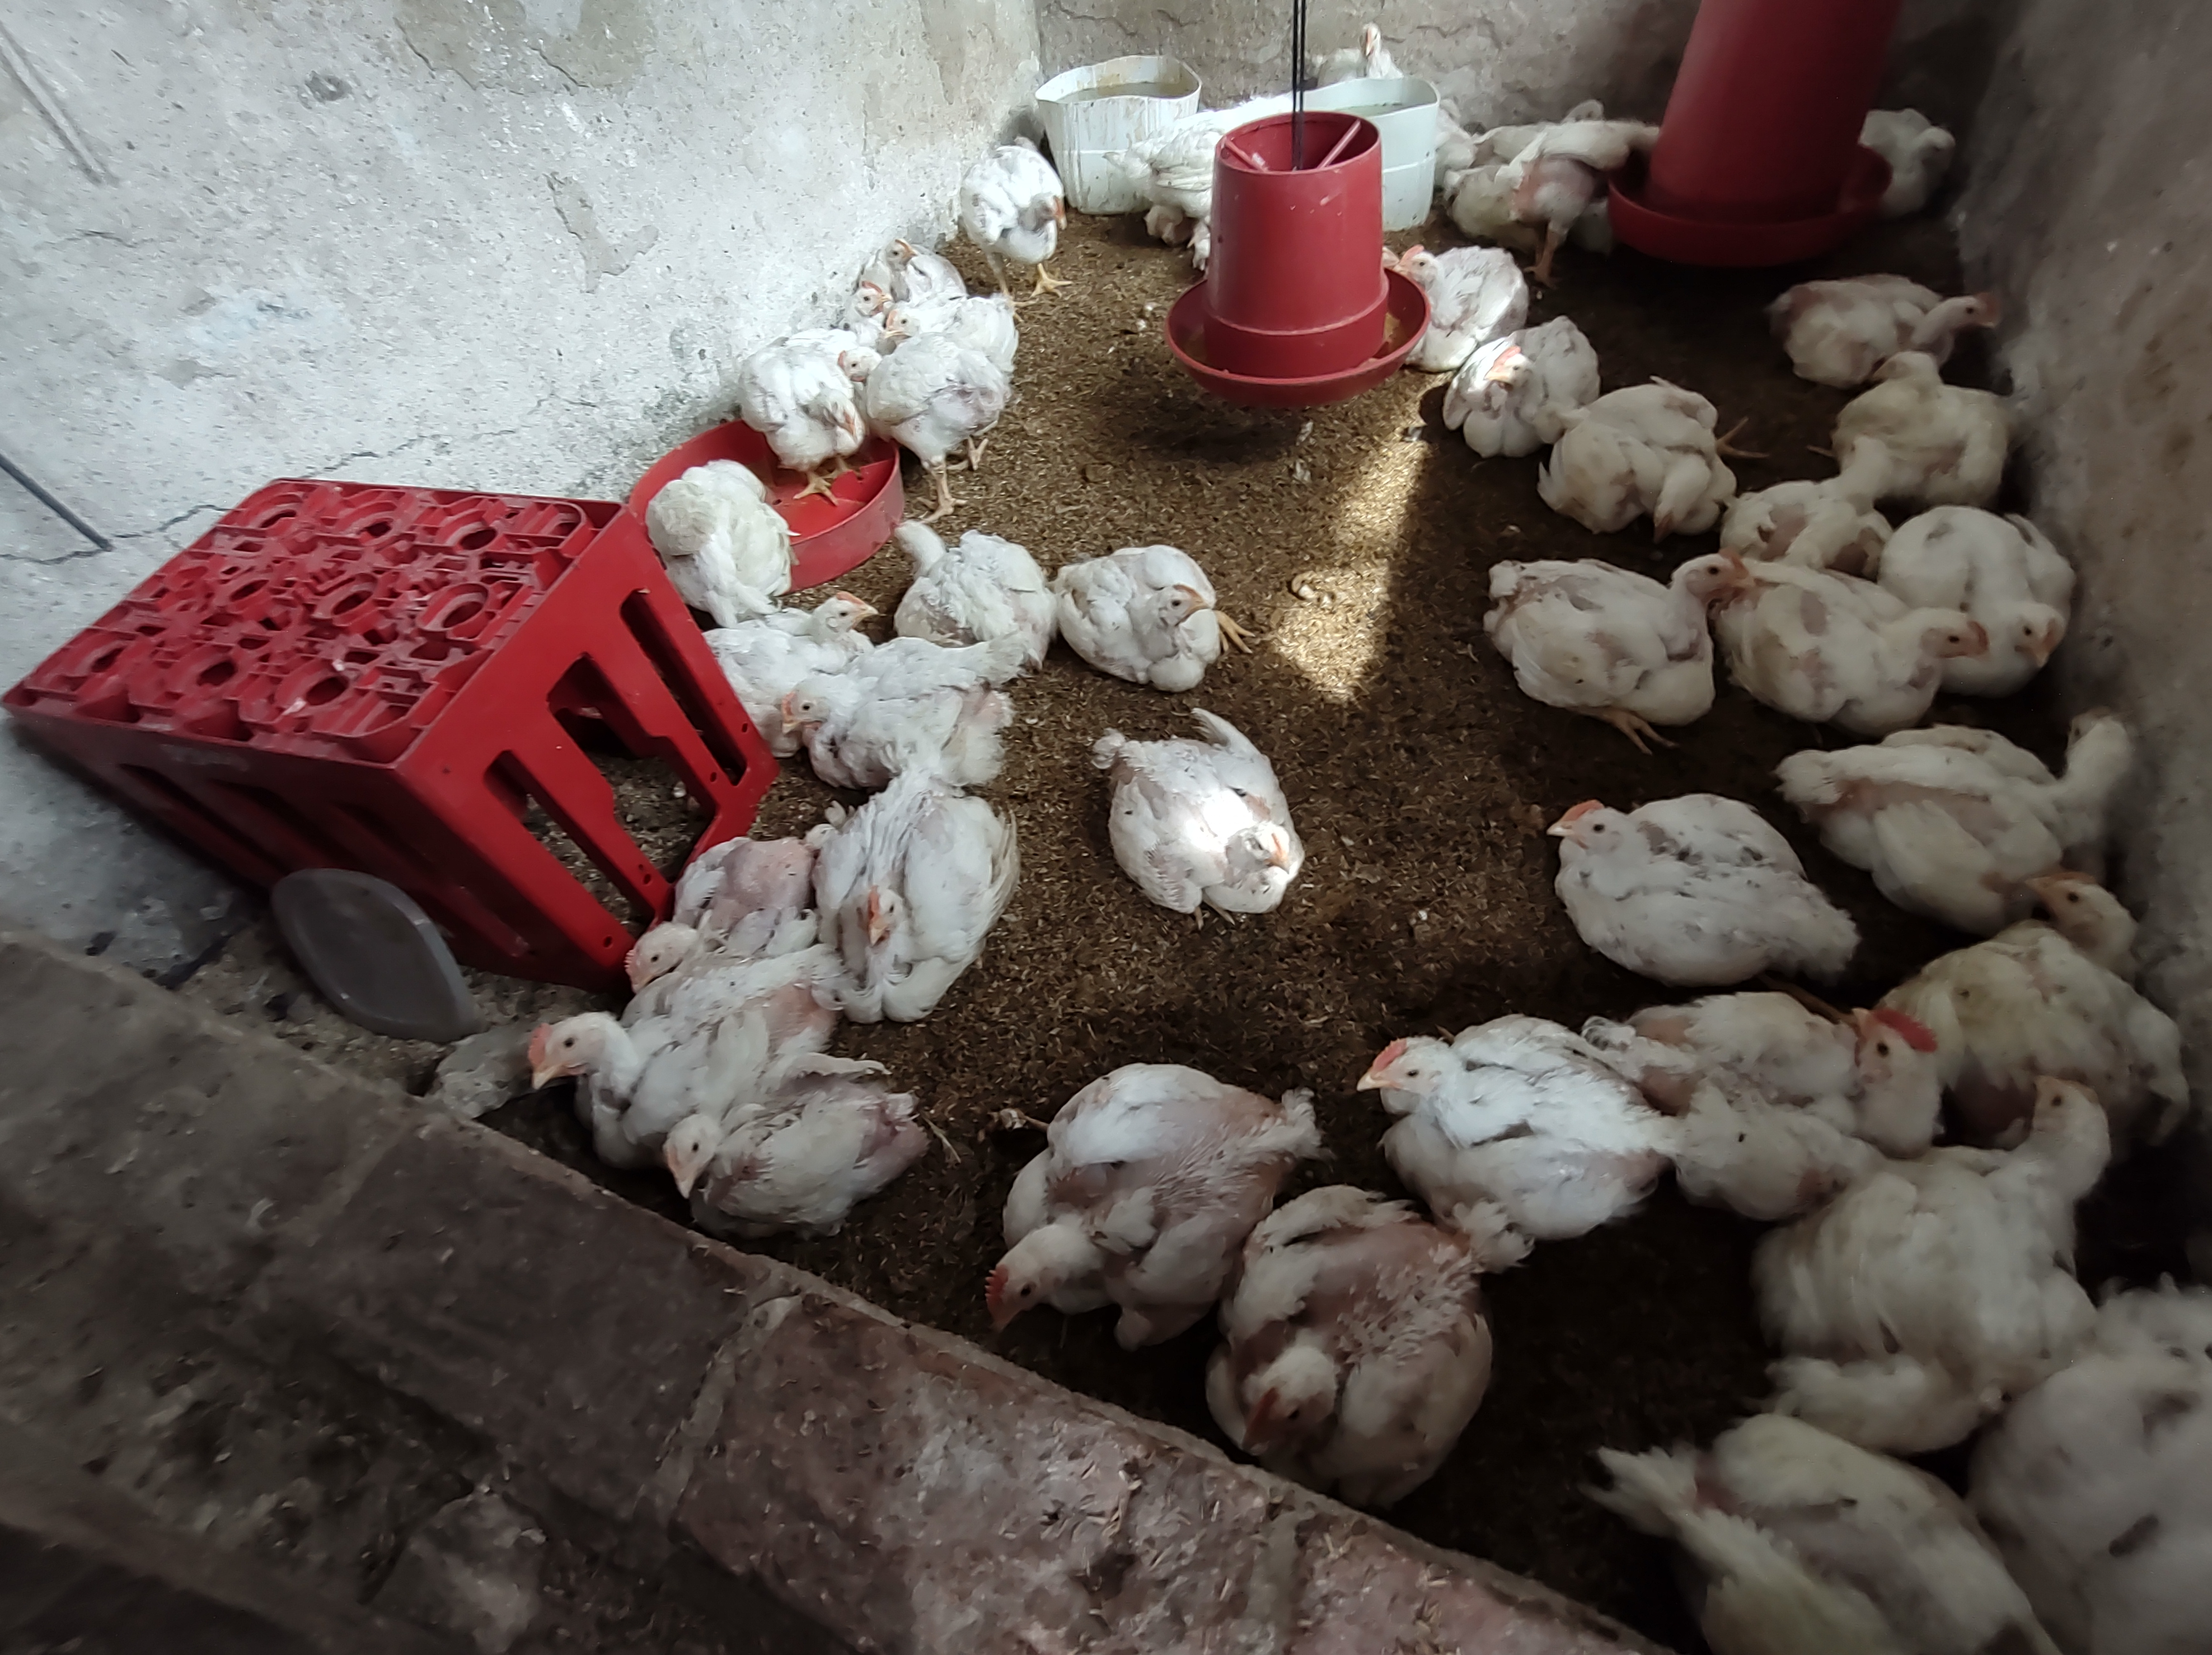Pollos: (1532, 760, 1873, 968), (1235, 1203, 1506, 1457), (984, 1111, 1226, 1349), (1944, 1073, 2122, 1354), (1956, 866, 2200, 1067), (1873, 701, 2151, 867), (1362, 1017, 1619, 1193), (1492, 541, 1744, 720), (1662, 989, 1927, 1140), (1784, 574, 1995, 721), (1116, 746, 1308, 899), (829, 817, 960, 1007), (664, 1095, 869, 1213), (645, 848, 786, 1007), (1595, 389, 1744, 535), (770, 673, 976, 774), (1069, 555, 1233, 668), (1822, 268, 2005, 369), (1459, 332, 1591, 457), (878, 511, 1024, 624), (523, 1007, 673, 1109), (962, 150, 1075, 259), (756, 579, 889, 666), (1398, 242, 1530, 320), (2003, 563, 2082, 687), (826, 342, 965, 395), (1322, 21, 1407, 83), (783, 395, 863, 452), (864, 229, 941, 273), (852, 275, 892, 334)
